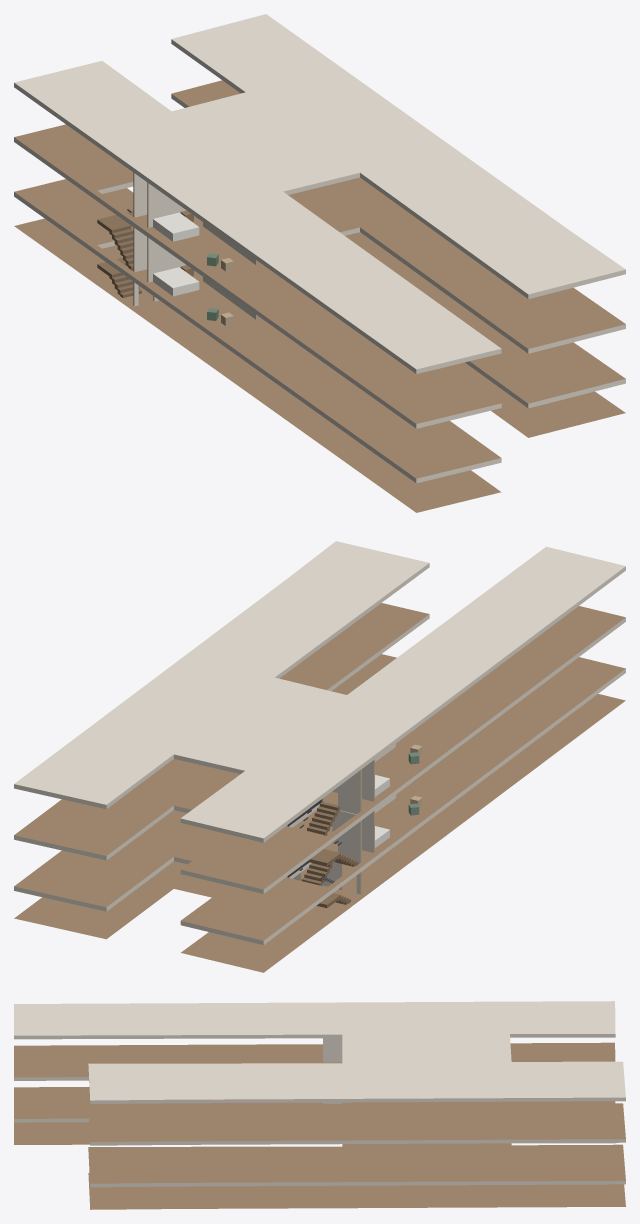
The model's file is interior.glb.
3 renders of one model, top to bottom at view 1: azimuth 30°, elevation 25°; view 2: azimuth 150°, elevation 25°; view 3: azimuth 270°, elevation 25°, orthographic. The views are drawn at different scales.
Visible parts, largest first — view 1: slabs, partitions, stair, coarse-s2, coarse-s1; view 2: slabs, partitions, stair; view 3: slabs, partitions.
Part boxes in pixels (left/top/right/bottom): slabs: left=14, top=14, right=625, bottom=512; partitions: left=133, top=172, right=257, bottom=319; stair: left=97, top=209, right=141, bottom=297; coarse-s2: left=153, top=210, right=233, bottom=271; coarse-s1: left=153, top=265, right=233, bottom=325; slabs: left=14, top=541, right=625, bottom=972; partitions: left=293, top=744, right=395, bottom=894; stair: left=287, top=799, right=358, bottom=908; slabs: left=14, top=1001, right=625, bottom=1209; partitions: left=323, top=1038, right=342, bottom=1103.
Size of the model in its own units: 15.37 by 7.9 by 39.99.
